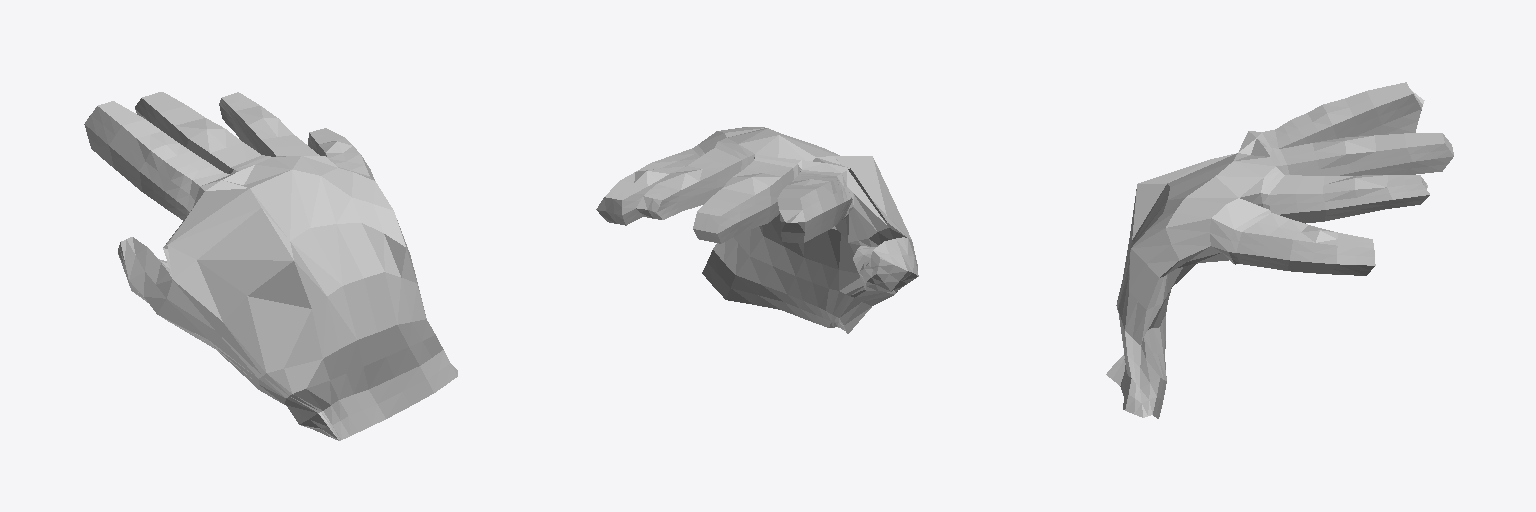
Rendered from flexion0036.obj.
3 views of the same model, side by side, from view 1: azimuth 30°, elevation 25°; view 2: azimuth 150°, elevation 25°; view 3: azimuth 270°, elevation 25° (orthographic).
Parts seen in each view (by area): view 1: Hand; view 2: Hand; view 3: Hand.
Part boxes in pixels (x1,y1,x2,y2): Hand: (84, 92, 457, 440); Hand: (596, 127, 918, 333); Hand: (1106, 82, 1453, 418).
Size of the model in its own units: 3.27 by 2.98 by 3.69.